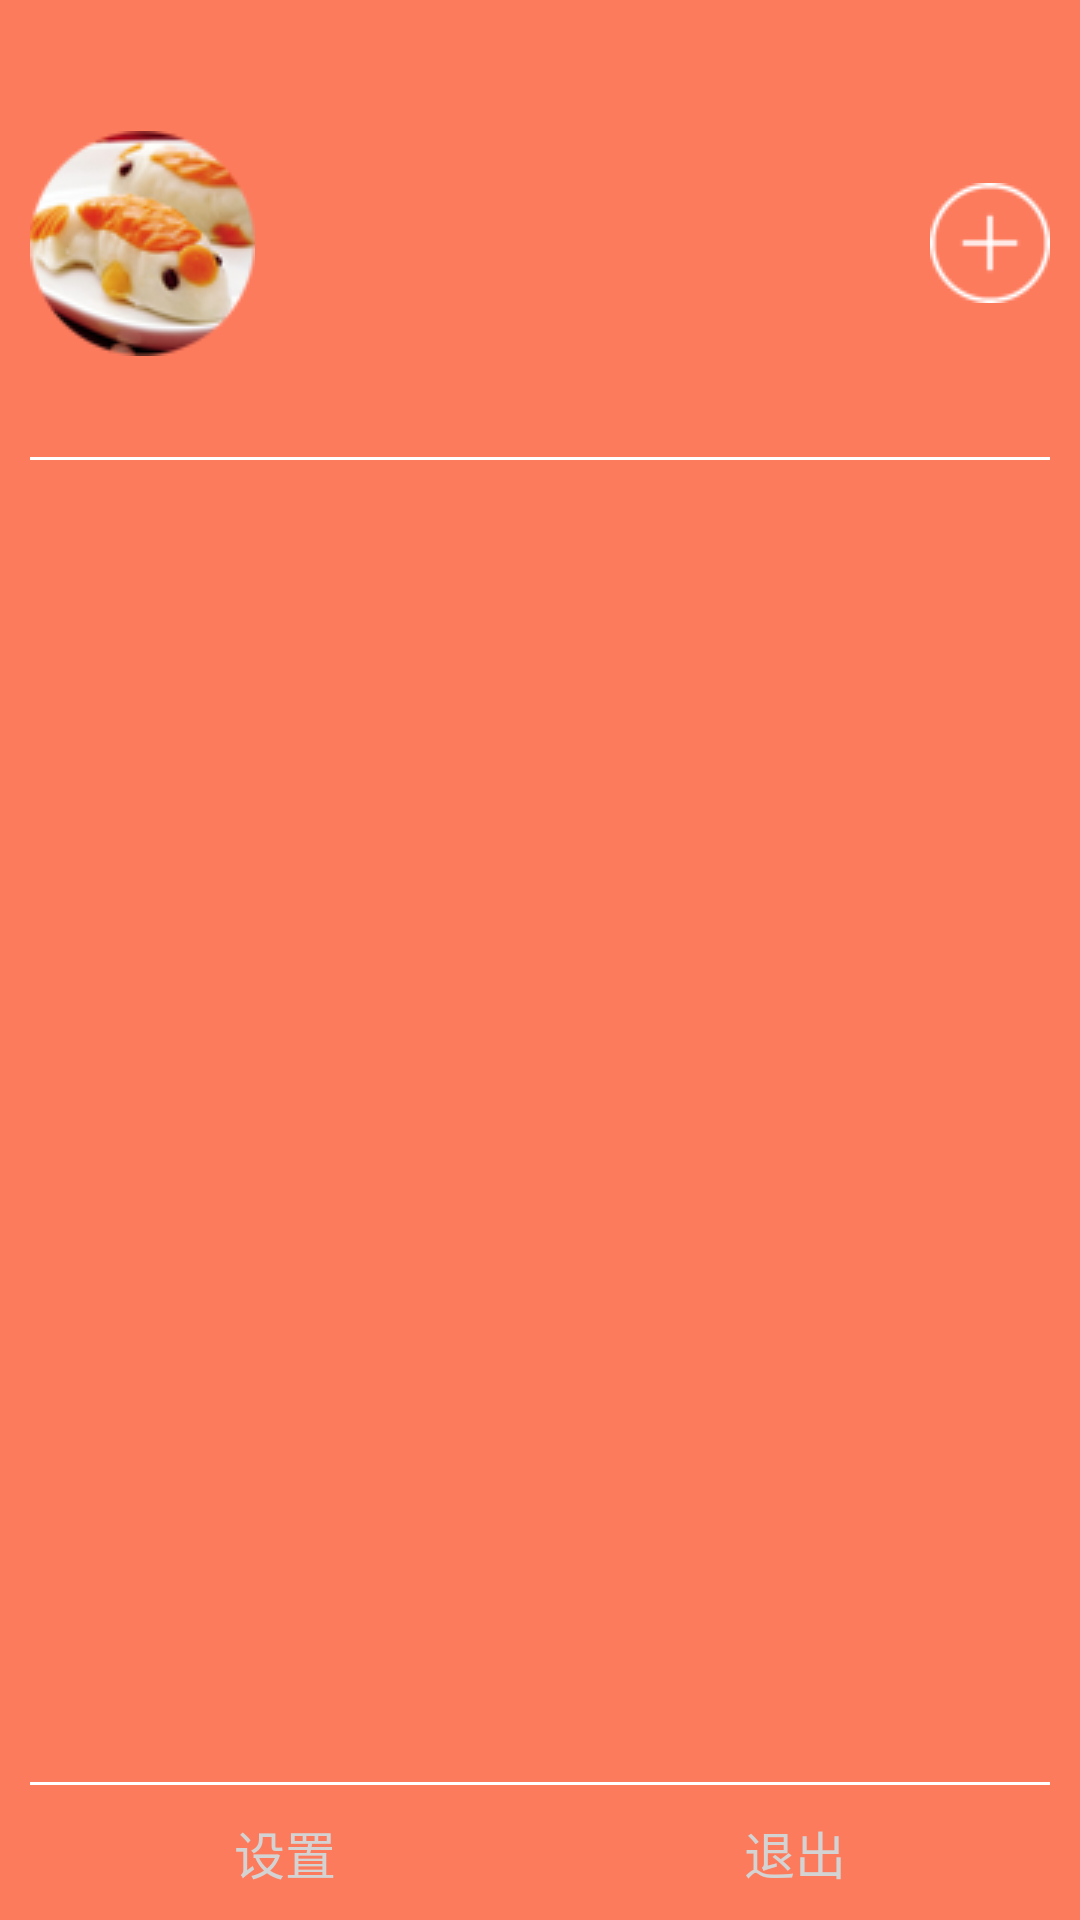

Where icons sit on this 1080w x 1920h app screen, as (x1=x1, y1=y1, x2=x2, y2=y2):
jiahao: (x1=930, y1=183, x2=1050, y2=303)
poptouxiang yuan: (x1=30, y1=131, x2=255, y2=356)
